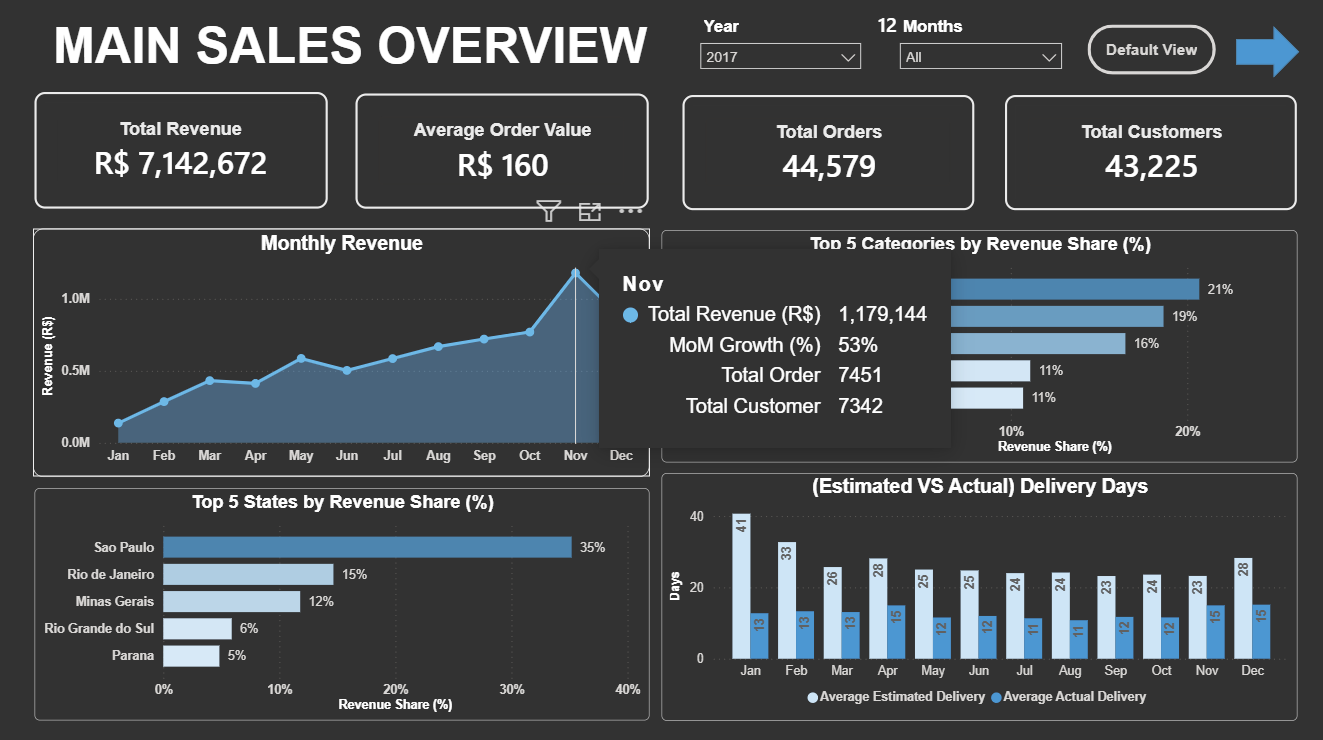

Layout of this report page (visuals, bound fields, positions):
{"tool":"powerbi","page":{"name":"Executive Summary","canvas":[1280,720],"ordinal":0},"visuals":[{"type":"slicer","fields":{"Values":["public dim_date.month_name"]},"box":[857.3,17.5,175,70],"z":0},{"type":"areaChart","title":"Monthly Revenue","fields":{"Category":["public dim_date.month_short"],"Y":["public fact_sales.Revenue"]},"box":[39.8,224.3,588.5,237],"z":1000},{"type":"clusteredBarChart","title":"Top 5 Categories by Revenue Share (%)","fields":{"Y":["public fact_sales.Categories Revenue Share (%)"],"Category":["public dim_product.macro_category"]},"box":[640.3,226.3,607.3,222],"z":2000},{"type":"cardVisual","fields":{"Data":["public fact_sales.Customers"]},"box":[968.7,97,278.4,109.8],"z":3000},{"type":"cardVisual","fields":{"Data":["public fact_sales.Orders"]},"box":[660.1,97,278.4,109.8],"z":4000},{"type":"cardVisual","fields":{"Data":["public fact_sales.Average Order Value"]},"box":[348.3,95.4,279.9,109.8],"z":5000},{"type":"cardVisual","fields":{"Data":["public fact_sales.Revenue"]},"box":[41.4,93.8,279.9,111.3],"z":6000},{"type":"clusteredBarChart","title":"Top 5 States by Revenue Share (%)","fields":{"Category":["public dim_customer.state_name"],"Y":["public fact_sales.Revenue Share (%)"]},"box":[41.5,472.7,587.3,222],"z":7000},{"type":"actionButton","box":[1046.6,30.2,122.5,47.7],"z":8000},{"type":"textbox","box":[54.1,17.5,621.9,66.8],"z":9000},{"type":"clusteredColumnChart","title":"(Estimated VS Actual) Delivery Days","fields":{"Category":["public dim_date.month_short"],"Y":["all_measures.Average Estimated Delivery Days","all_measures.Average Actual Delivery Days"]},"box":[640.3,458.4,607.3,236.3],"z":10000},{"type":"cardVisual","fields":{"Data":["public dim_date.Total Months"]},"box":[804.8,1.6,89.1,55.7],"z":14000},{"type":"slicer","fields":{"Values":["public dim_date.year"]},"box":[668.1,17.5,173.4,70],"z":18000},{"type":"shape","box":[1188.2,31.8,60.4,49.3],"z":20000}]}

Visuals, with their boxes in screenshot pixels (x1, y1, x2, y2), scaled from the page's 1280x720 canvas onto the 1323x740 screenshot:
slicer - public dim_date.month_name: rect(886, 18, 1067, 90)
"Monthly Revenue" areaChart: rect(41, 231, 649, 474)
"Top 5 Categories by Revenue Share (%)" clusteredBarChart: rect(662, 233, 1290, 461)
cardVisual - public fact_sales.Customers: rect(1001, 100, 1289, 213)
cardVisual - public fact_sales.Orders: rect(682, 100, 970, 213)
cardVisual - public fact_sales.Average Order Value: rect(360, 98, 649, 211)
cardVisual - public fact_sales.Revenue: rect(43, 96, 332, 211)
"Top 5 States by Revenue Share (%)" clusteredBarChart: rect(43, 486, 650, 714)
actionButton: rect(1082, 31, 1208, 80)
textbox: rect(56, 18, 699, 87)
"(Estimated VS Actual) Delivery Days" clusteredColumnChart: rect(662, 471, 1290, 714)
cardVisual - public dim_date.Total Months: rect(832, 2, 924, 59)
slicer - public dim_date.year: rect(691, 18, 870, 90)
shape: rect(1228, 33, 1291, 83)
